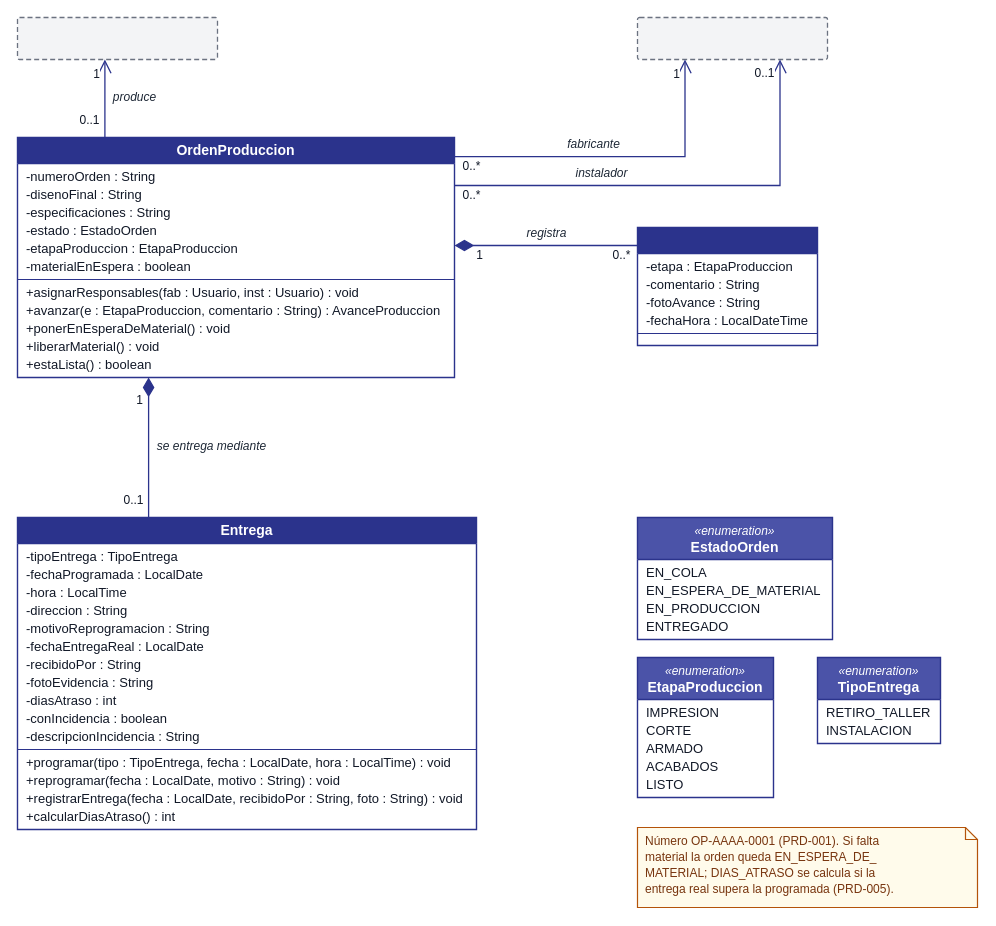
Image size: 996x926. Some labels were removed from this diagram. Here are the shapes that lost their labels. From the top down, the box of each, then its label:
(16, 16, 218, 60): «ver diagrama de proyectos» Proyecto
(636, 16, 828, 60): «ver diagrama de seguridad» Usuario
(636, 226, 818, 346): AvanceProduccion
